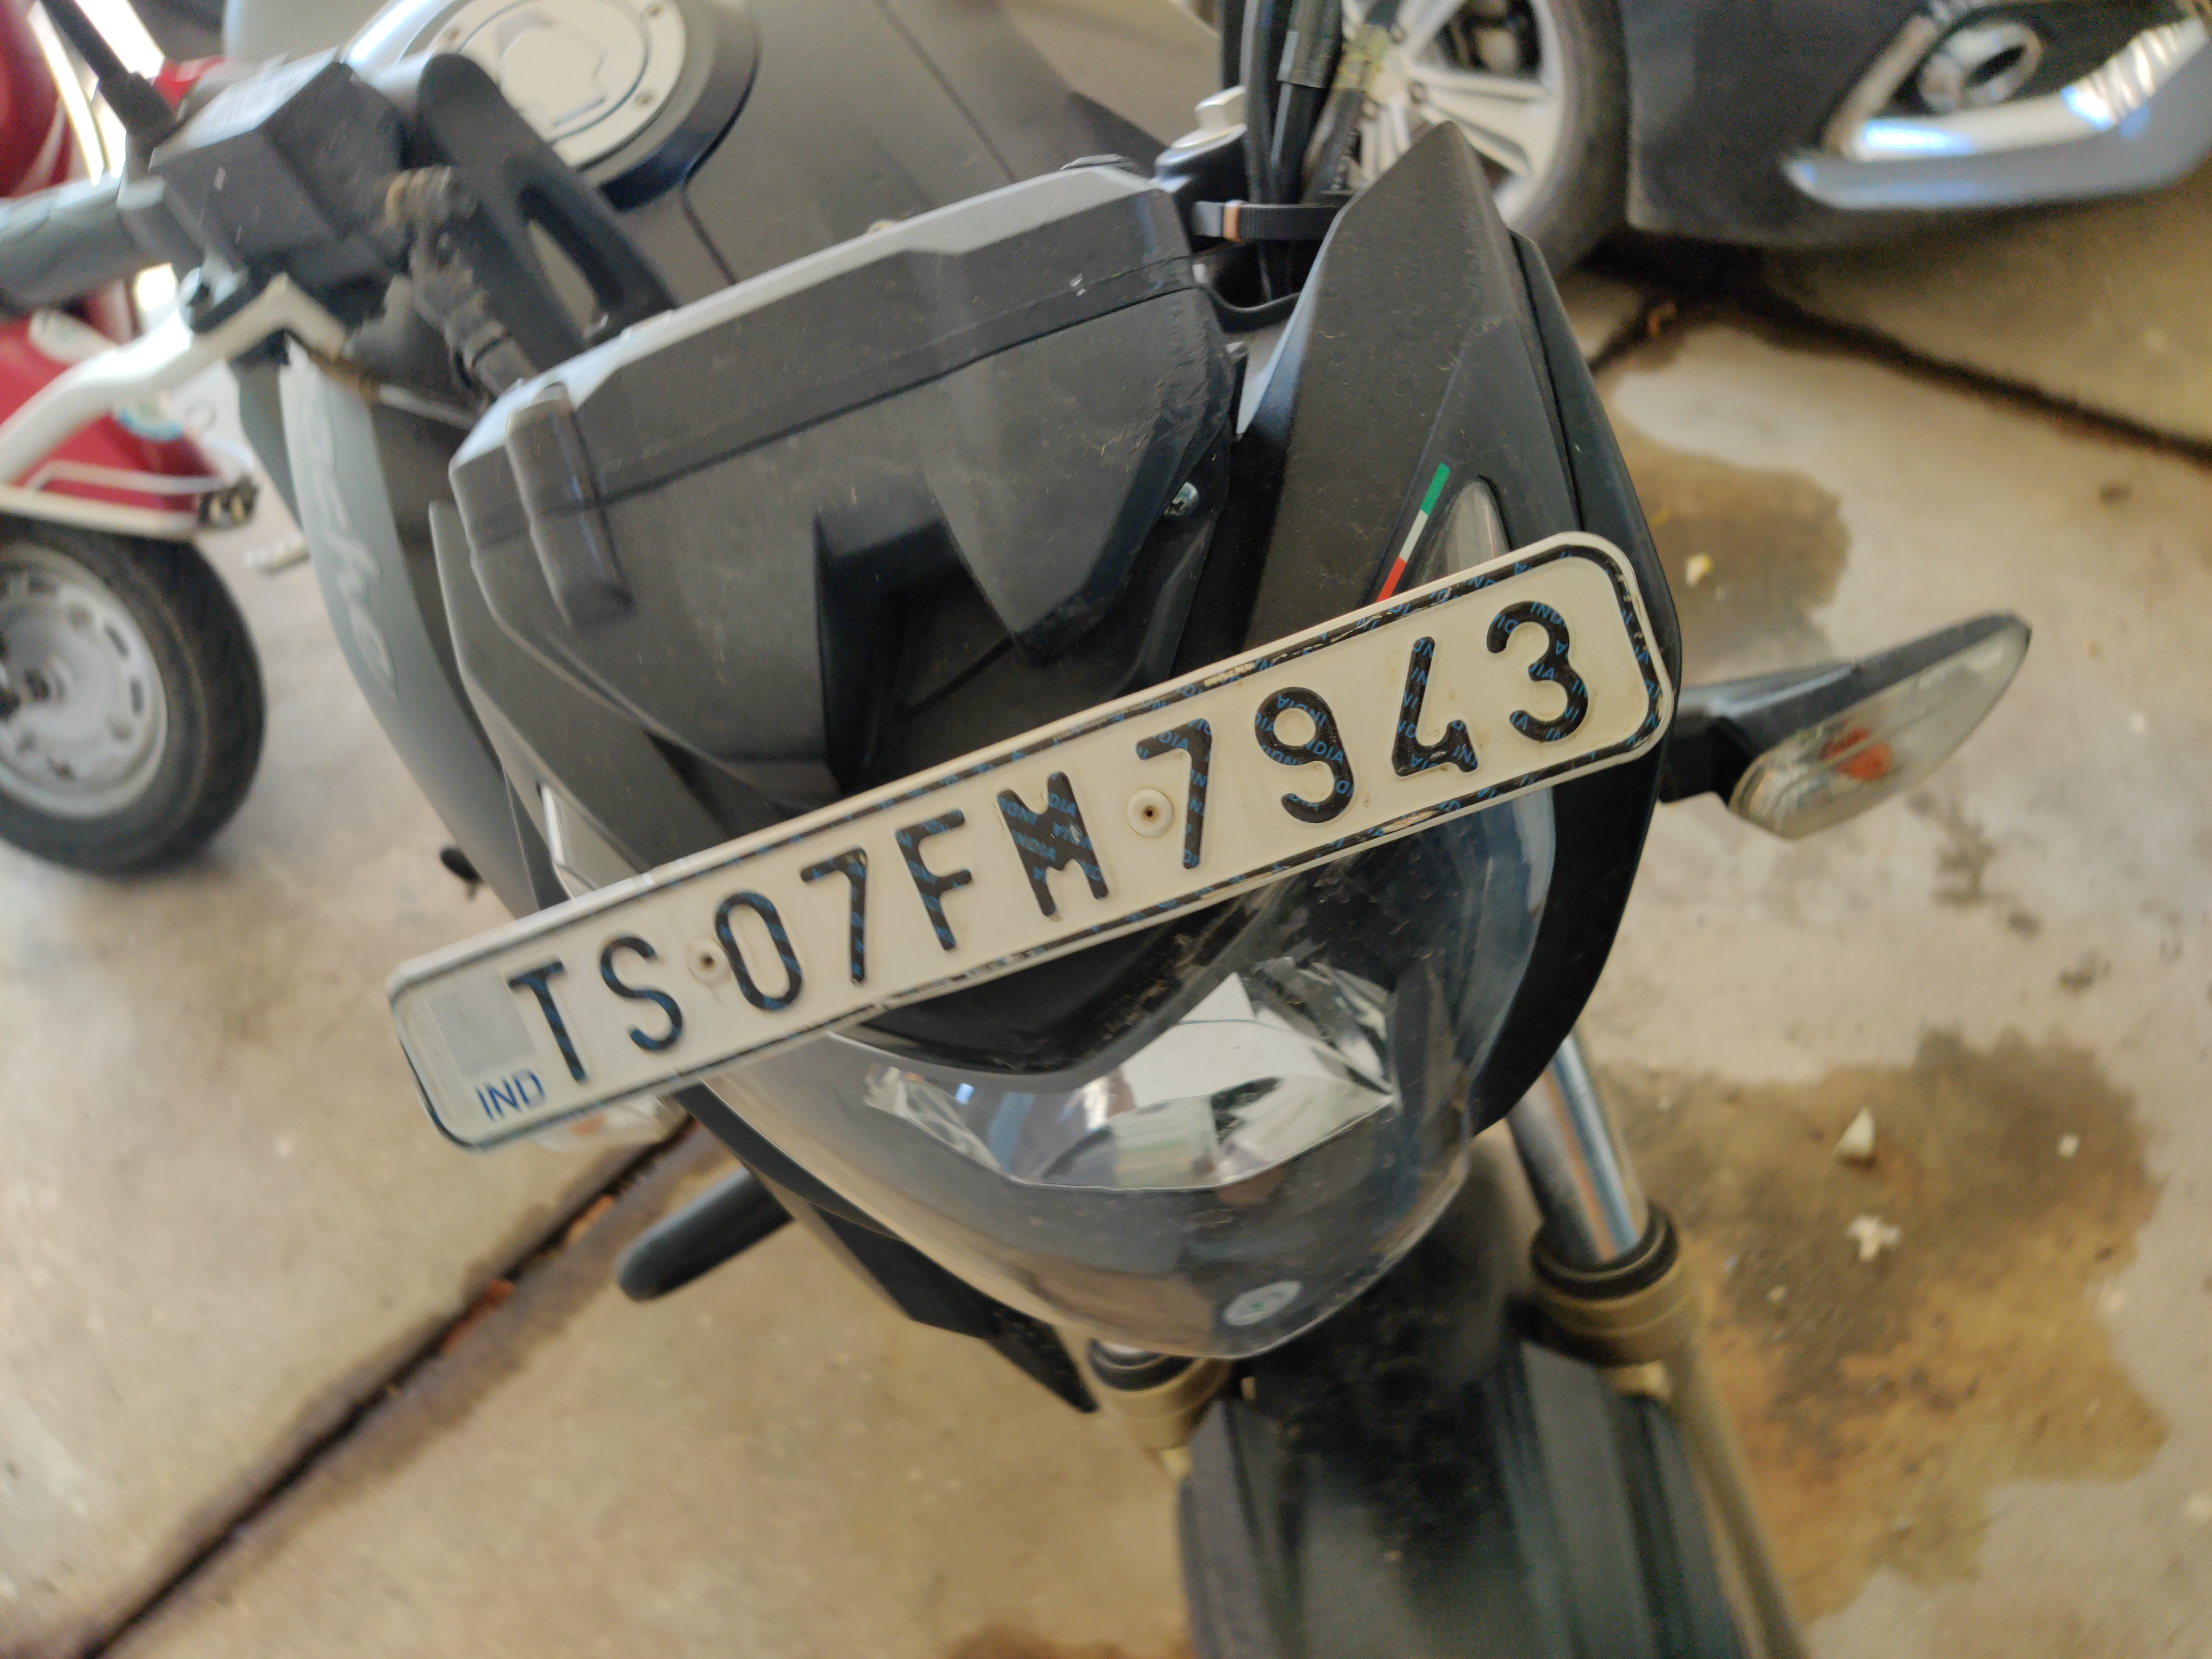plate: (383, 504, 1733, 1182)
